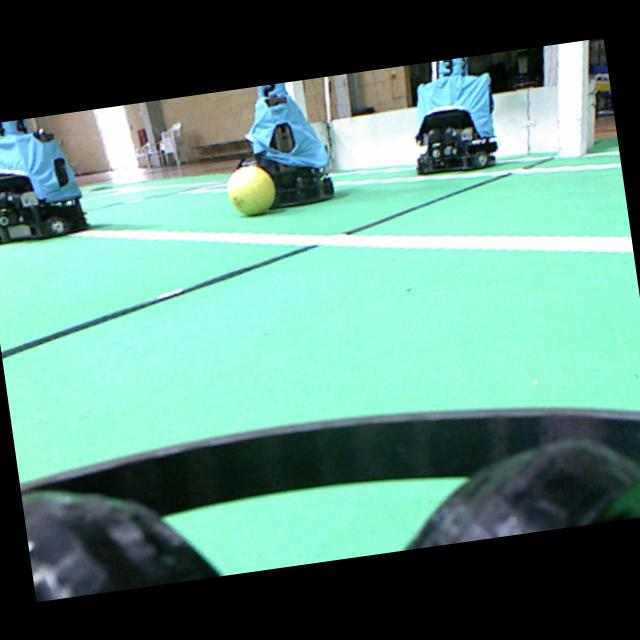ball: (227, 166, 275, 215)
goal: (557, 40, 594, 156)
